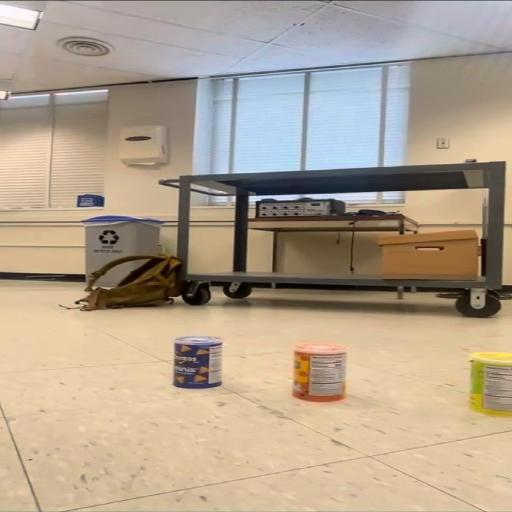pringle can: (295, 342, 348, 401), (470, 352, 511, 417), (174, 335, 222, 389)
